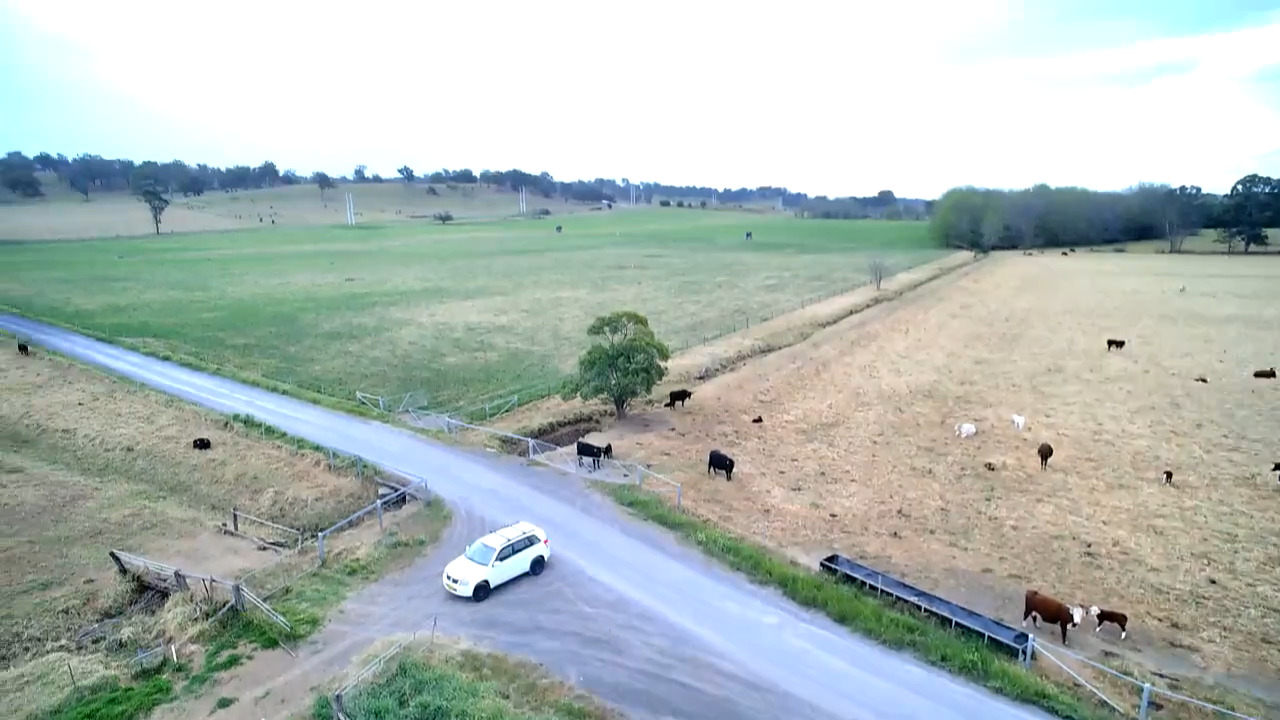Car: (442, 522, 550, 601)
